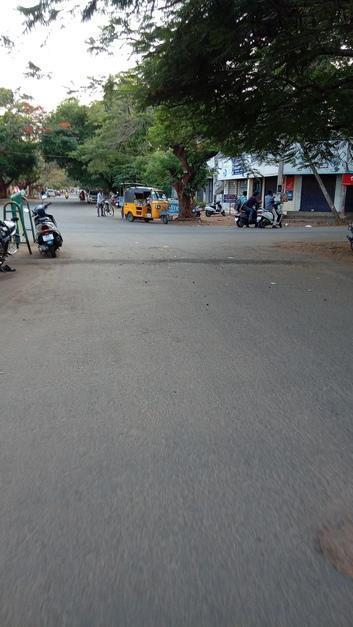speedbreaker: (27, 255, 338, 269)
